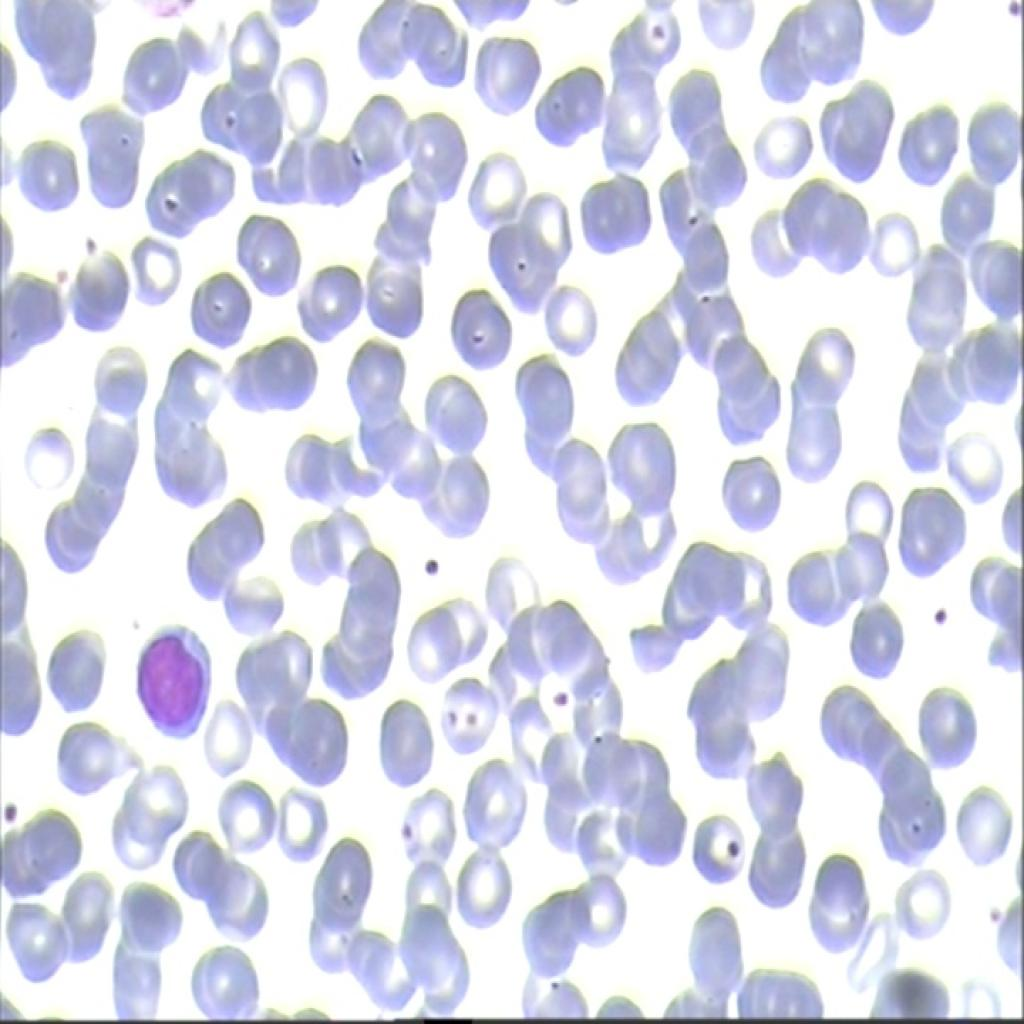Limfosit: (111, 599, 223, 754)
Platelet: (926, 585, 964, 635), (410, 530, 442, 585), (546, 668, 575, 722), (50, 249, 77, 297), (438, 697, 467, 738), (0, 791, 30, 830), (80, 224, 110, 261), (720, 830, 746, 871), (458, 706, 484, 745), (396, 806, 420, 836)
